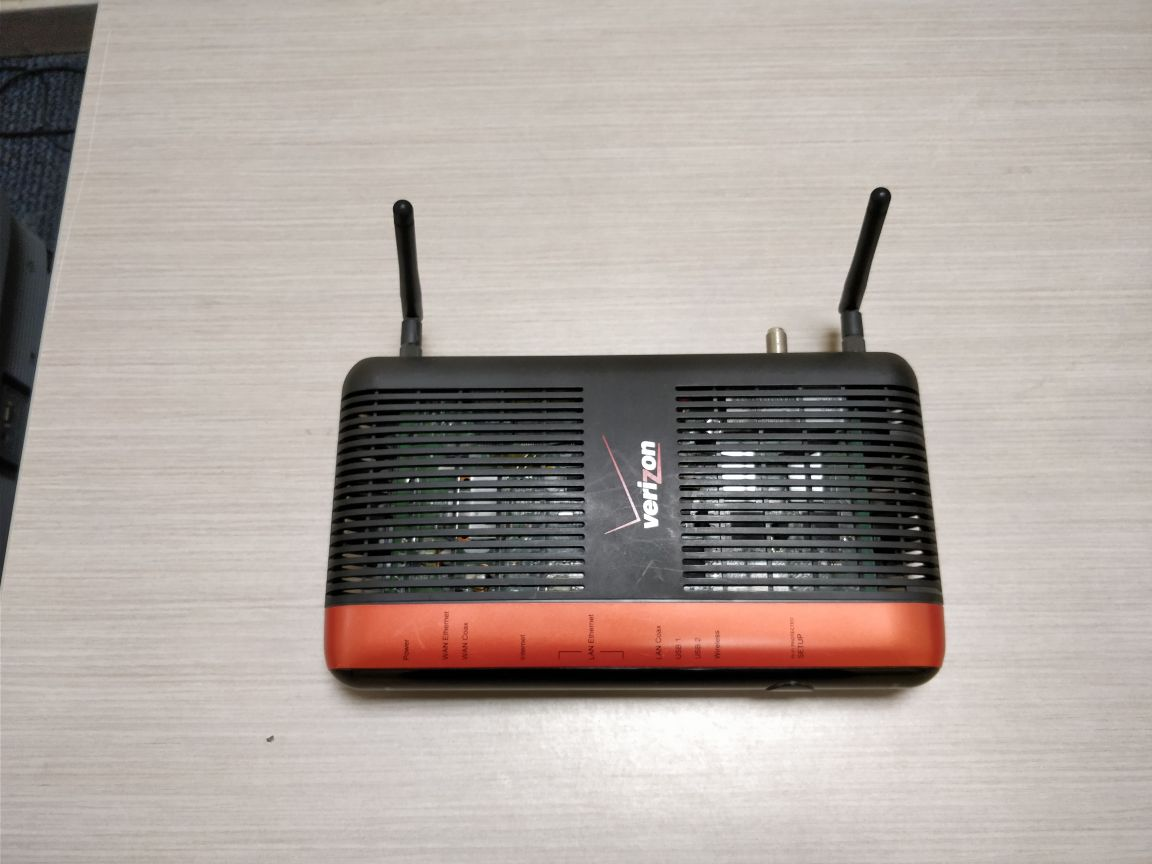Verizon Router: (299, 162, 996, 736)
